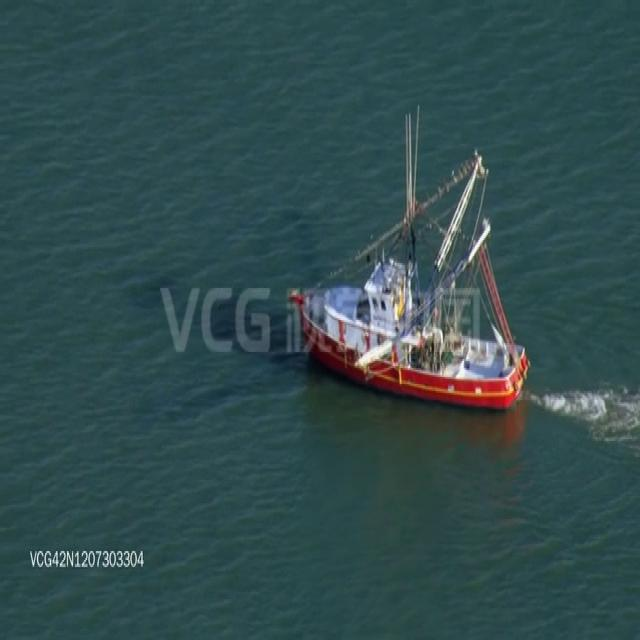houseboat: (296, 114, 525, 410)
